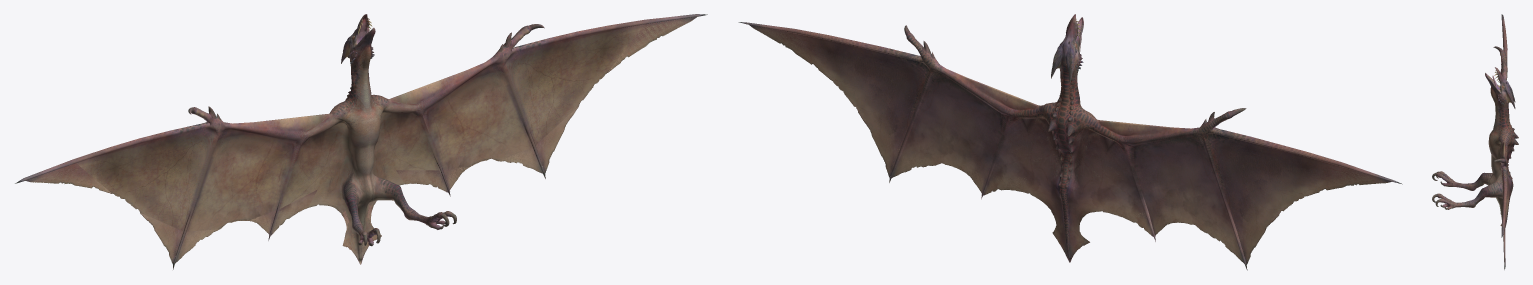
Rendered from ems055_00.obj.
3 renders of one model, left to right at view 1: azimuth 30°, elevation 25°; view 2: azimuth 150°, elevation 25°; view 3: azimuth 270°, elevation 25°, orthographic. The views are drawn at different scales.
Parts seen in each view (by area): view 1: ems055_00_001_LOD_1, ems055_00_000_LOD_1, ems055_00_002_LOD_1; view 2: ems055_00_002_LOD_1, ems055_00_000_LOD_1, ems055_00_001_LOD_1; view 3: ems055_00_000_LOD_1, ems055_00_002_LOD_1.
Boxes of the visible parts, x1,y1,x2,y2 form: ems055_00_001_LOD_1: [29, 18, 693, 264]; ems055_00_000_LOD_1: [15, 14, 707, 269]; ems055_00_002_LOD_1: [26, 17, 696, 264]; ems055_00_002_LOD_1: [749, 25, 1391, 263]; ems055_00_000_LOD_1: [738, 14, 1402, 270]; ems055_00_001_LOD_1: [751, 26, 1388, 264]; ems055_00_000_LOD_1: [1432, 14, 1518, 269]; ems055_00_002_LOD_1: [1500, 36, 1510, 231].
Bounding box in the file's own units: 1178 × 414 × 193.
